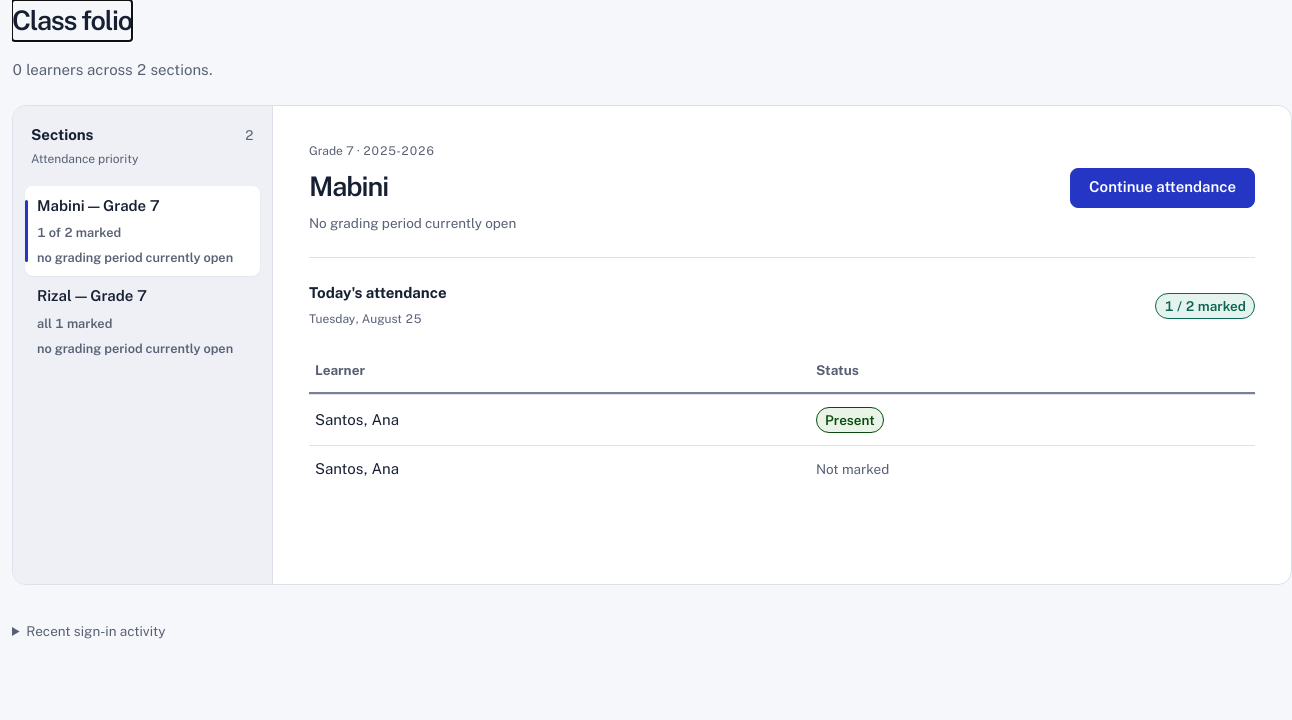
it: TeacherWorkspaceScreen › labels the action 'Continue attendance' when partially marked and 'Review attendance' when complete
Expected: the button "Continue attendance" is shown, x1=1070 y1=168 x2=1255 y2=208
Click the button "Rizal — Grade" at (142, 322), box x1=25 y1=276 x2=260 y2=367
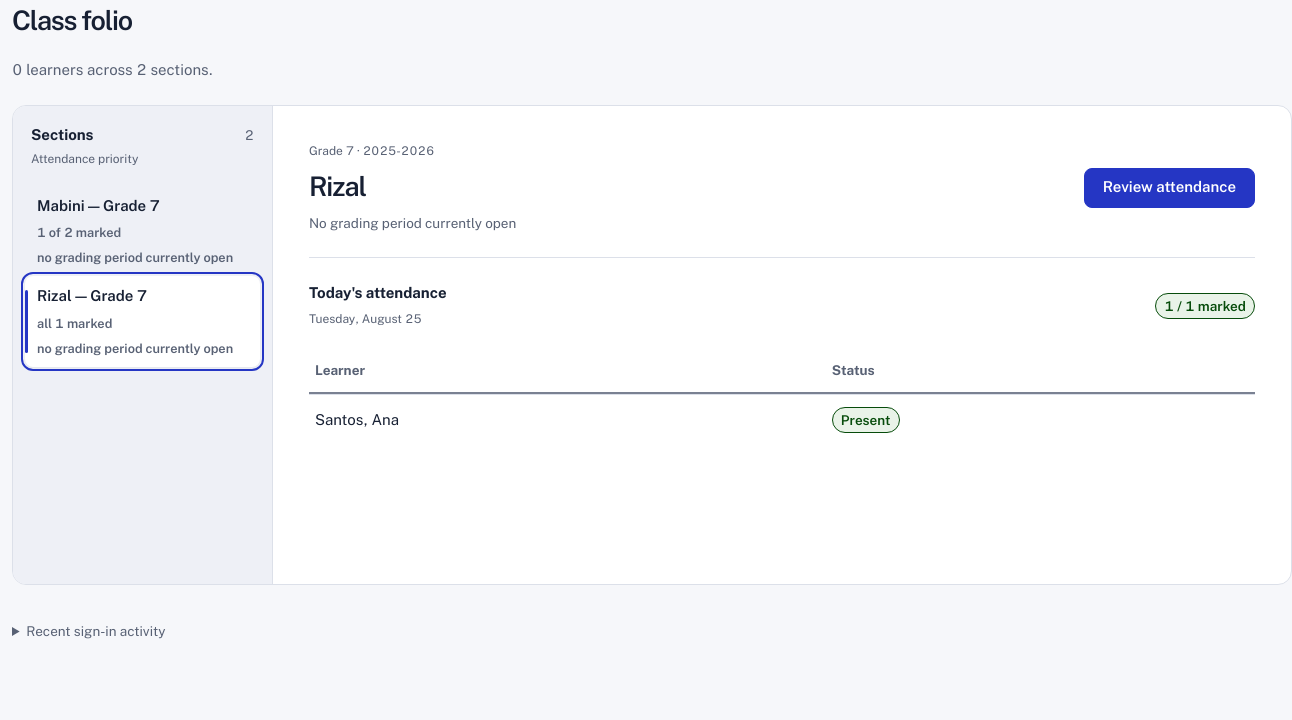
Expected: the button "Review attendance" is shown, x1=1084 y1=168 x2=1255 y2=208
